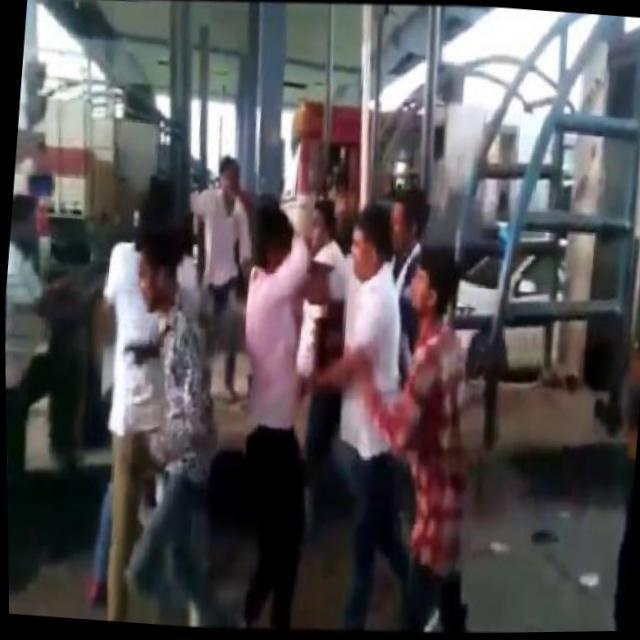fight: (216, 188, 426, 546)
